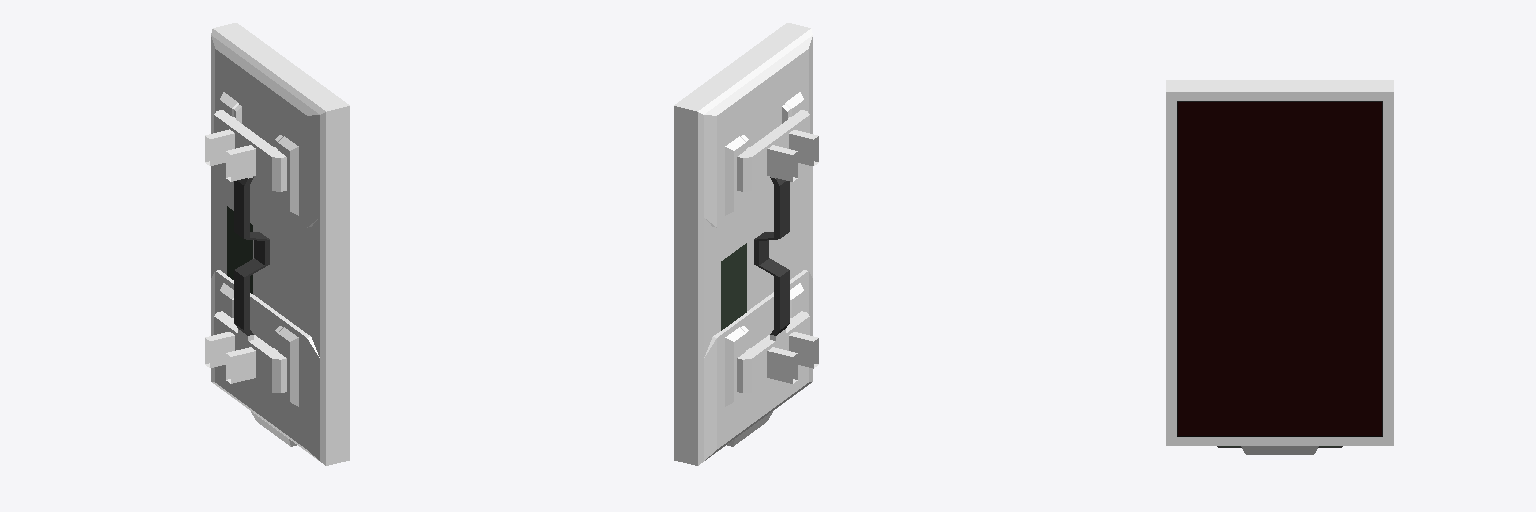
Rendered from future-sign-tele.obj.
3 renders of one model, left to right at view 1: azimuth 30°, elevation 25°; view 2: azimuth 150°, elevation 25°; view 3: azimuth 270°, elevation 25°, orthographic.
Parts seen in each view (by area): view 1: Mesh1 NM_Vyrant_Telecom_sign1 Model, Mesh2 NM_Vyrant_Telecom_sign1 Model; view 2: Mesh1 NM_Vyrant_Telecom_sign1 Model, Mesh2 NM_Vyrant_Telecom_sign1 Model; view 3: Mesh1 NM_Vyrant_Telecom_sign1 Model.
Boxes of the visible parts, box(x1,y1,x2,y2) form: Mesh1 NM_Vyrant_Telecom_sign1 Model: box(205, 23, 349, 465); Mesh2 NM_Vyrant_Telecom_sign1 Model: box(227, 206, 252, 293); Mesh1 NM_Vyrant_Telecom_sign1 Model: box(674, 23, 818, 465); Mesh2 NM_Vyrant_Telecom_sign1 Model: box(721, 243, 746, 330); Mesh1 NM_Vyrant_Telecom_sign1 Model: box(1166, 80, 1393, 454).
Size of the model in its own units: 1.39 by 6.37 by 3.59.